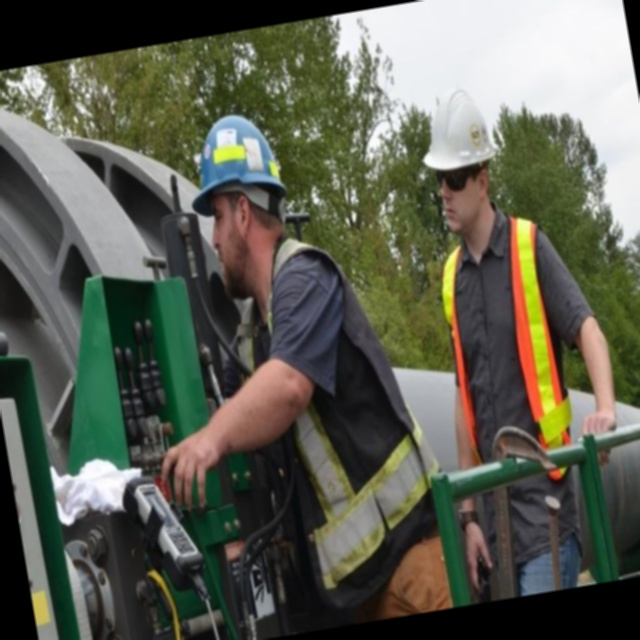Con_Chaleco: (242, 223, 443, 591), (427, 204, 580, 470)
